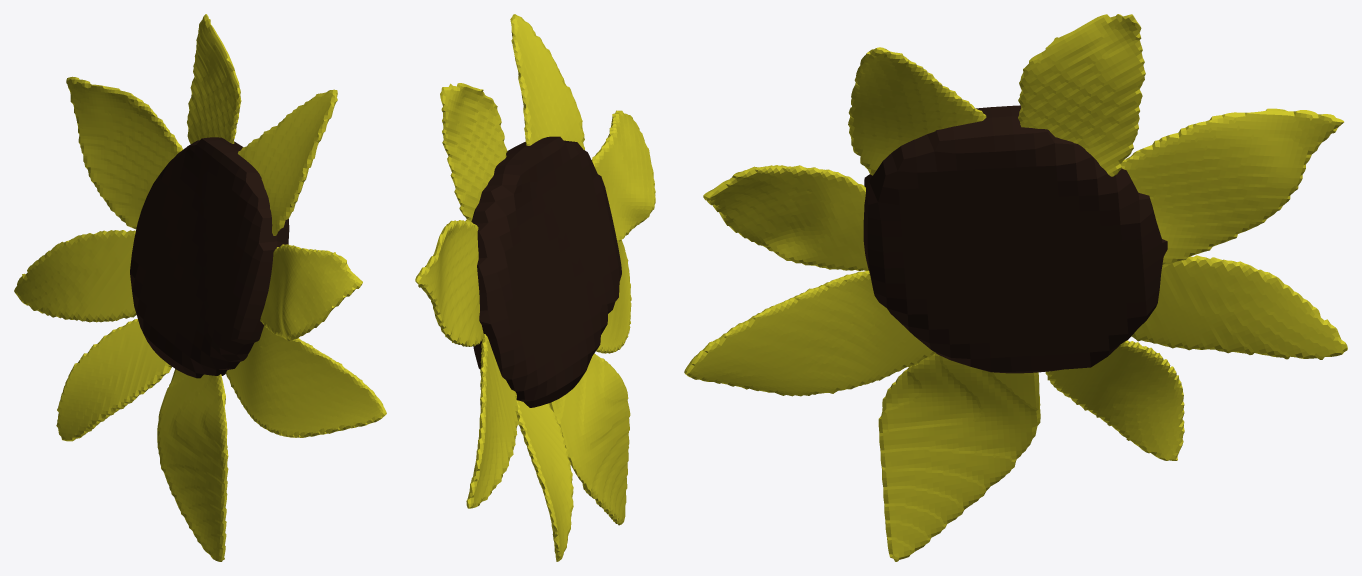
Rendered from sunflower2.glb.
3 renders of one model, left to right at view 1: azimuth 30°, elevation 25°; view 2: azimuth 150°, elevation 25°; view 3: azimuth 270°, elevation 25°, orthographic. The views are drawn at different scales.
Visible parts, largest first — view 1: black core; view 2: black core; view 3: black core.
Boxes of the visible parts, bbox=[...] form: black core: bbox=[14, 14, 386, 561]; black core: bbox=[415, 14, 655, 561]; black core: bbox=[684, 14, 1347, 561].
Size of the model in its own units: 1.69 by 4.59 by 4.64.
